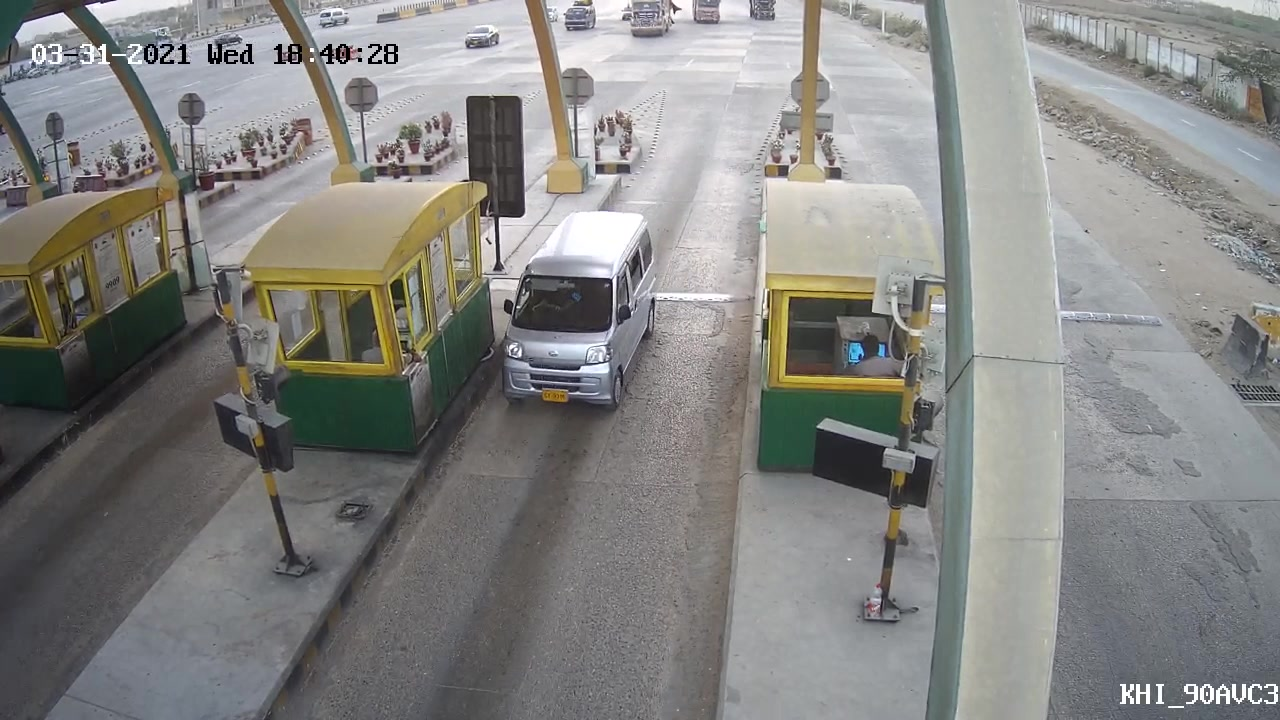F1: (491, 201, 675, 407)
